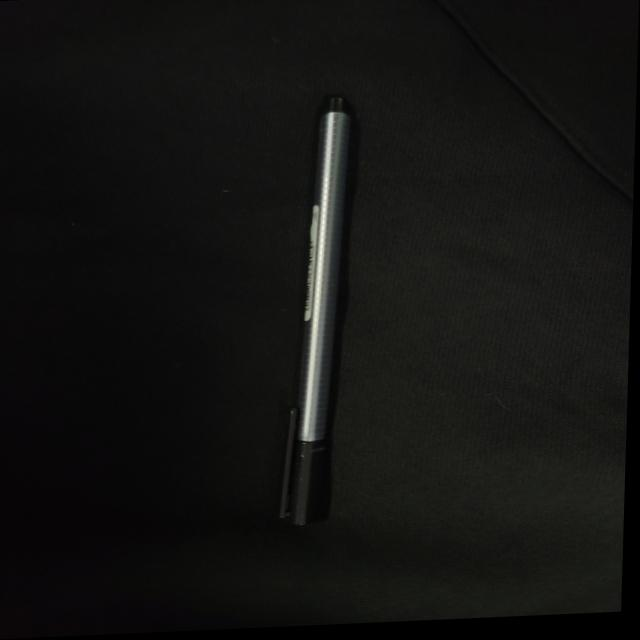caneta: (265, 97, 384, 533)
